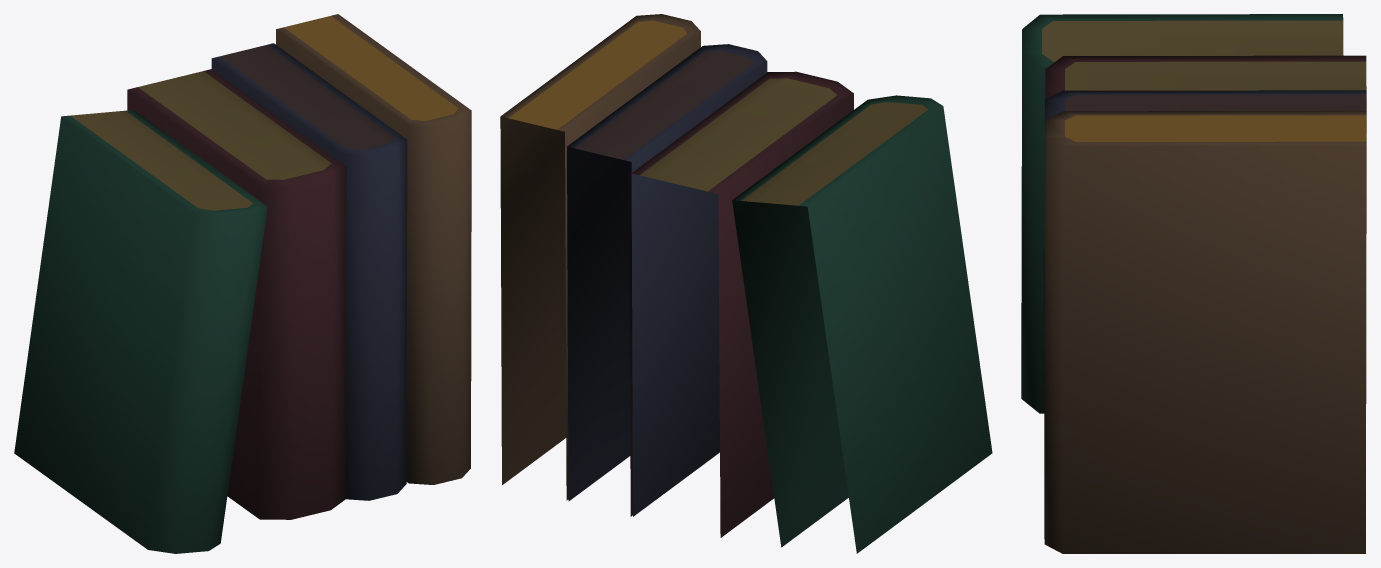
File: pq_livres_petits_1.glb
The picture shows the model from 3 angles, left to right: view 1: azimuth 30°, elevation 25°; view 2: azimuth 150°, elevation 25°; view 3: azimuth 270°, elevation 25°; orthographic projection. The views are drawn at different scales.
Parts seen in each view (by area): view 1: BookGroup_Small_1; view 2: BookGroup_Small_1; view 3: BookGroup_Small_1.
Boxes of the visible parts, x1,y1,x2,y2 form: BookGroup_Small_1: (14,14,471,553); BookGroup_Small_1: (500,14,992,553); BookGroup_Small_1: (1021,14,1366,553).
Bounding box in the file's own units: 0.2546 × 0.2625 × 0.1985.
